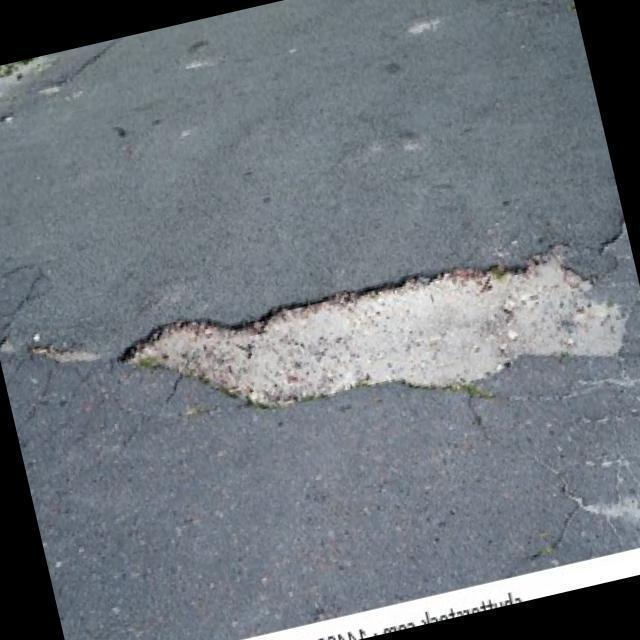pothole: (117, 227, 638, 469)
